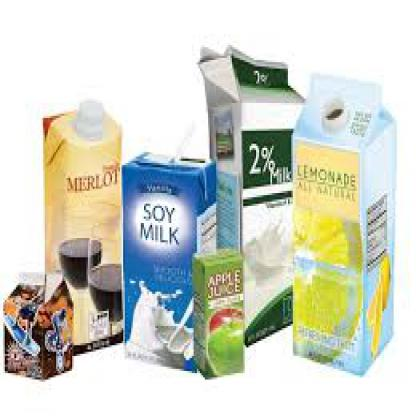CARDBOARD: (196, 43, 306, 345), (288, 71, 395, 375), (122, 150, 214, 373), (42, 101, 120, 354), (3, 272, 70, 380), (191, 249, 242, 377)
